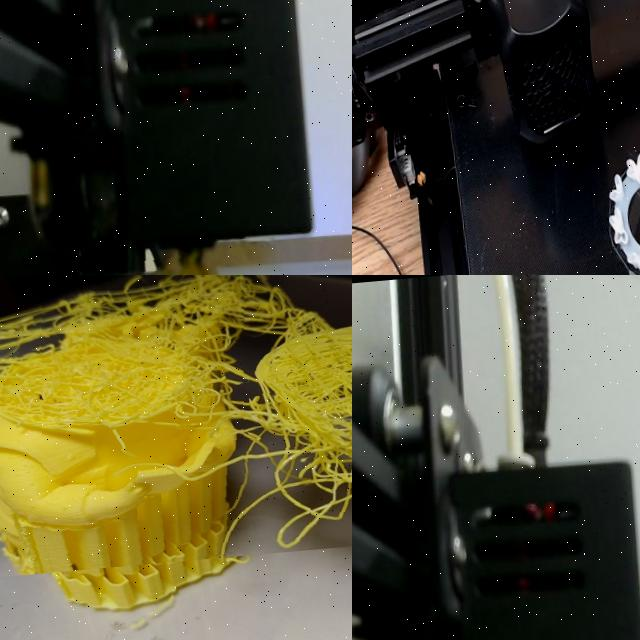spaghetti: (0, 275, 352, 585), (155, 250, 215, 275)
